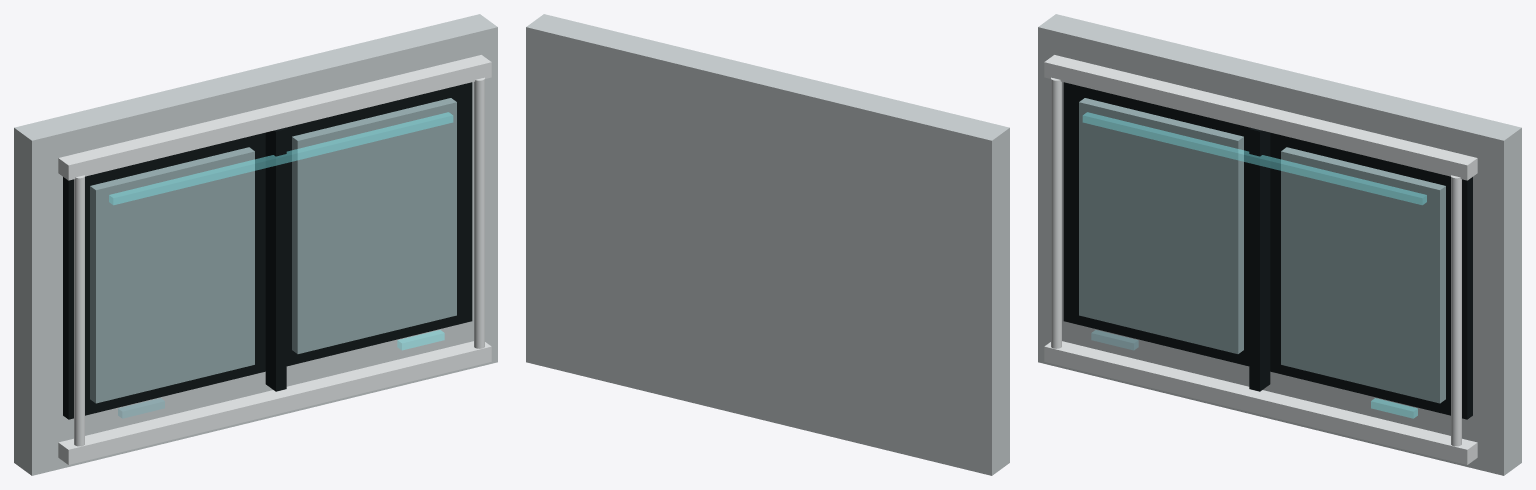
The model's file is hp_room_wall_panel_clinic.glb.
3 views of the same model, side by side, from view 1: azimuth 30°, elevation 25°; view 2: azimuth 150°, elevation 25°; view 3: azimuth 330°, elevation 25° (orthographic).
Parts seen in each view (by area): view 1: clinic_wall_structural_back, clinic_wall_status_strip; view 2: clinic_wall_structural_back; view 3: clinic_wall_structural_back, clinic_wall_status_strip.
Boxes of the visible parts, x1,y1,x2,y2 form: clinic_wall_structural_back: (14, 14, 497, 475); clinic_wall_status_strip: (109, 112, 453, 418); clinic_wall_structural_back: (526, 14, 1009, 475); clinic_wall_structural_back: (1038, 14, 1521, 475); clinic_wall_status_strip: (1082, 112, 1426, 418).
Bounding box in the file's own units: 2.4 × 1.65 × 0.326.
Materials: 2 (2 with a texture image).
